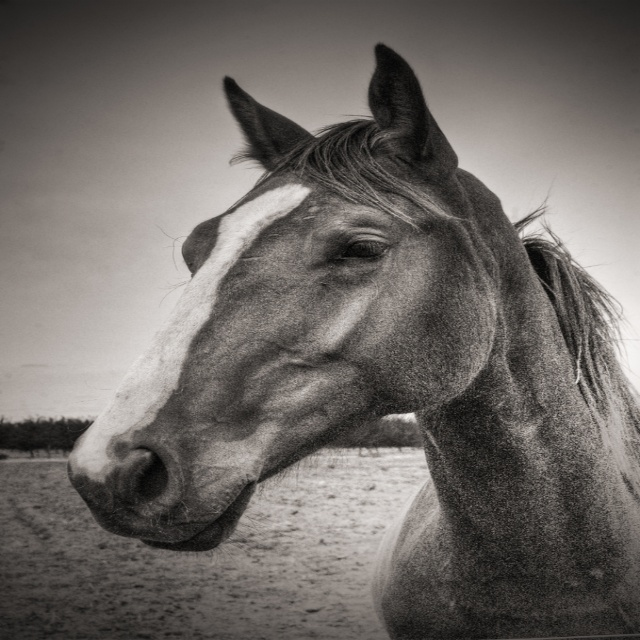Horse: (65, 40, 639, 640)
